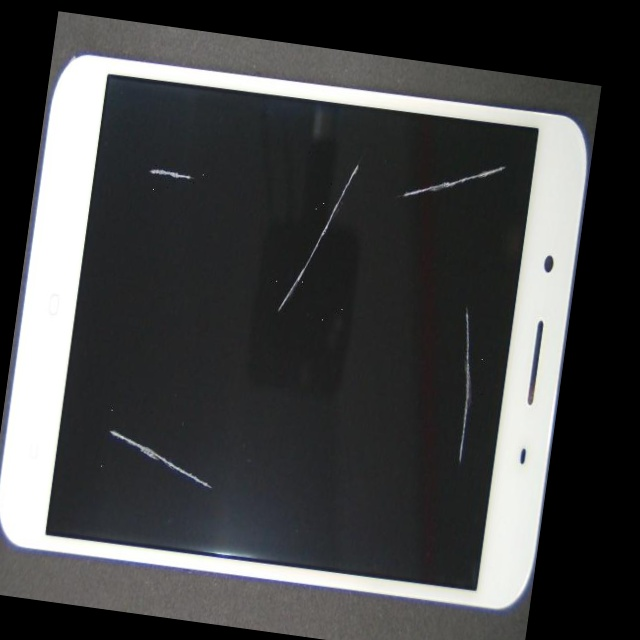scratch: (0, 204, 238, 620), (227, 153, 586, 426), (121, 148, 422, 473), (198, 117, 570, 330), (86, 61, 220, 243)
